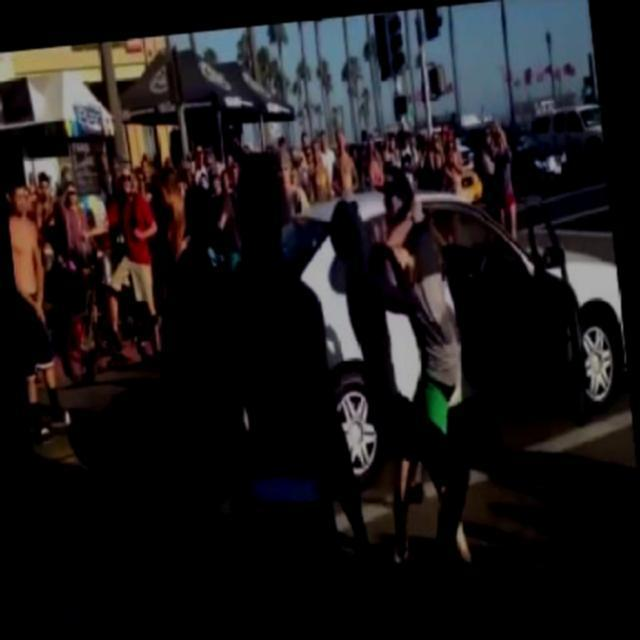fight: (324, 162, 481, 568)
non-fight: (198, 149, 366, 631), (148, 186, 256, 612)
